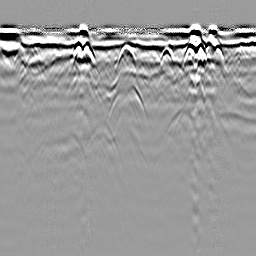cavity: (115, 39, 137, 70)
